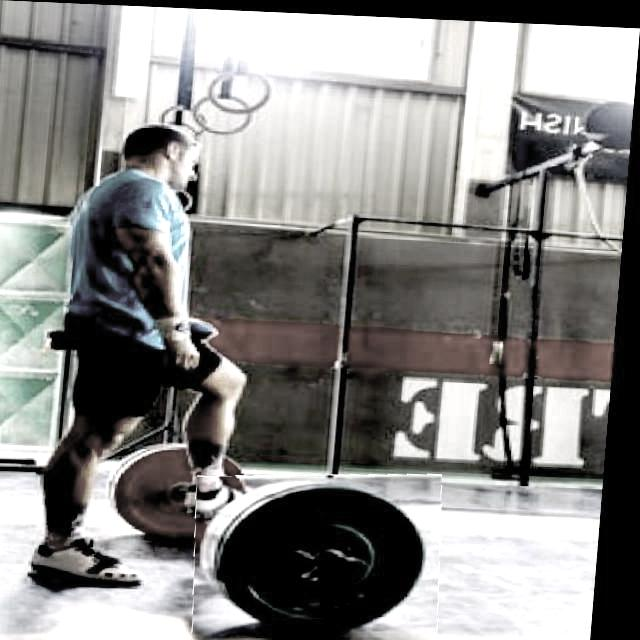barbell: (197, 465, 457, 640)
